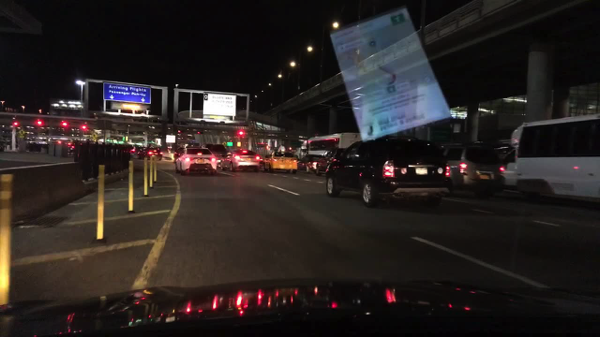bus: (499, 113, 599, 206), (294, 132, 361, 156)
car: (325, 134, 451, 209), (437, 142, 504, 197), (174, 146, 217, 176), (262, 145, 300, 174), (220, 148, 263, 173), (296, 153, 330, 177), (205, 143, 228, 169), (138, 145, 163, 161), (124, 145, 139, 155), (66, 140, 76, 150)
traffic light: (236, 130, 245, 136), (36, 118, 43, 125), (61, 122, 68, 127), (13, 120, 19, 125), (80, 124, 86, 129)
traffic sign: (102, 81, 152, 105), (203, 92, 237, 118), (427, 125, 454, 145), (164, 134, 176, 144), (154, 138, 162, 146), (20, 129, 25, 139)
